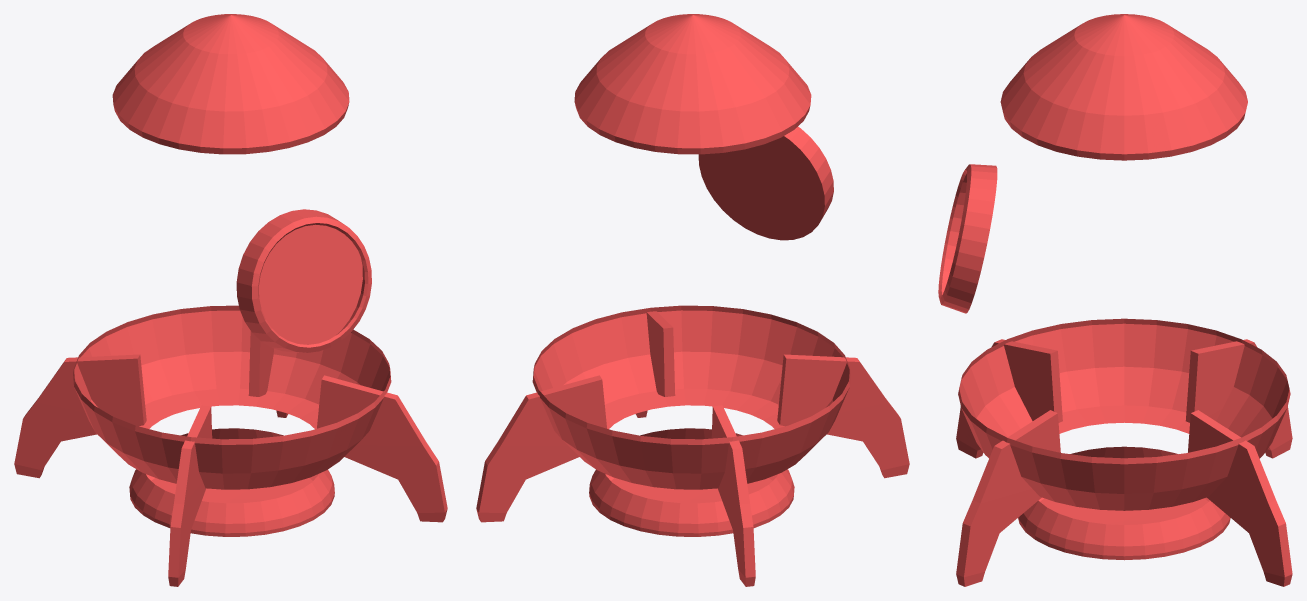
Rendered from rocket_red.fbx.
The picture shows the model from 3 angles, left to right: view 1: azimuth 30°, elevation 25°; view 2: azimuth 150°, elevation 25°; view 3: azimuth 270°, elevation 25°; orthographic projection. The views are drawn at different scales.
Visible parts, largest first — view 1: red.004; view 2: red.004; view 3: red.004.
Part boxes in pixels (<box>): red.004: <box>14,14,447,586</box>; red.004: <box>476,14,909,586</box>; red.004: <box>938,14,1292,586</box>.
Size of the model in its own units: 180 by 297 by 189.
3 materials, 3 textured.
